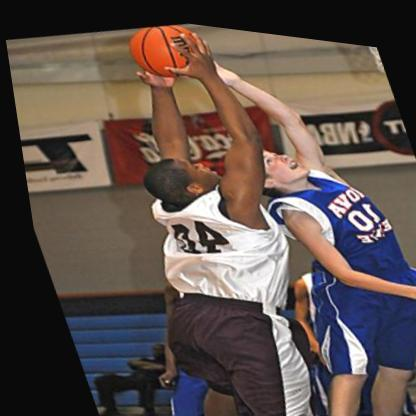basketball: (119, 12, 216, 85)
